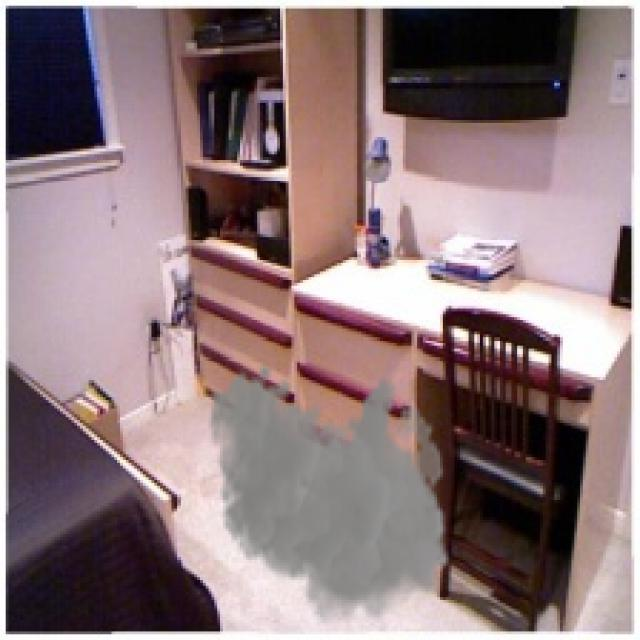smoke: (208, 363, 452, 634)
